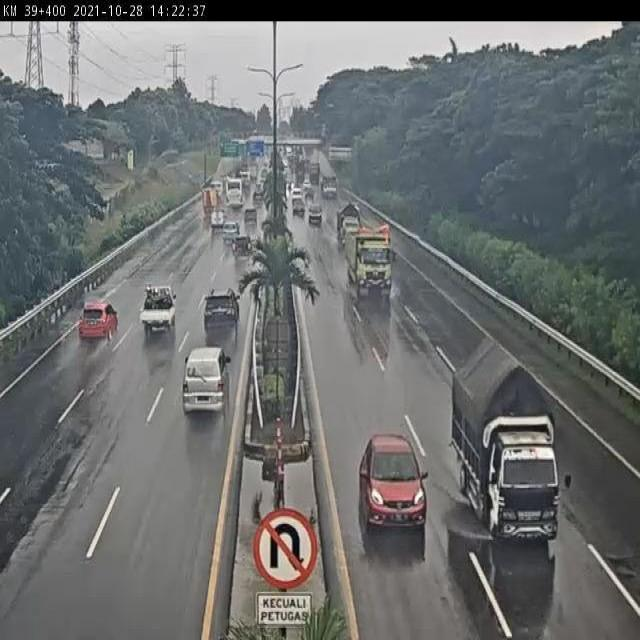car: (357, 431, 429, 533), (180, 344, 231, 419), (132, 286, 177, 342), (202, 288, 241, 336), (76, 301, 120, 343), (232, 232, 253, 255), (221, 220, 240, 243)
truck-l-: (346, 222, 395, 294)
truck-m-: (450, 333, 571, 544)
